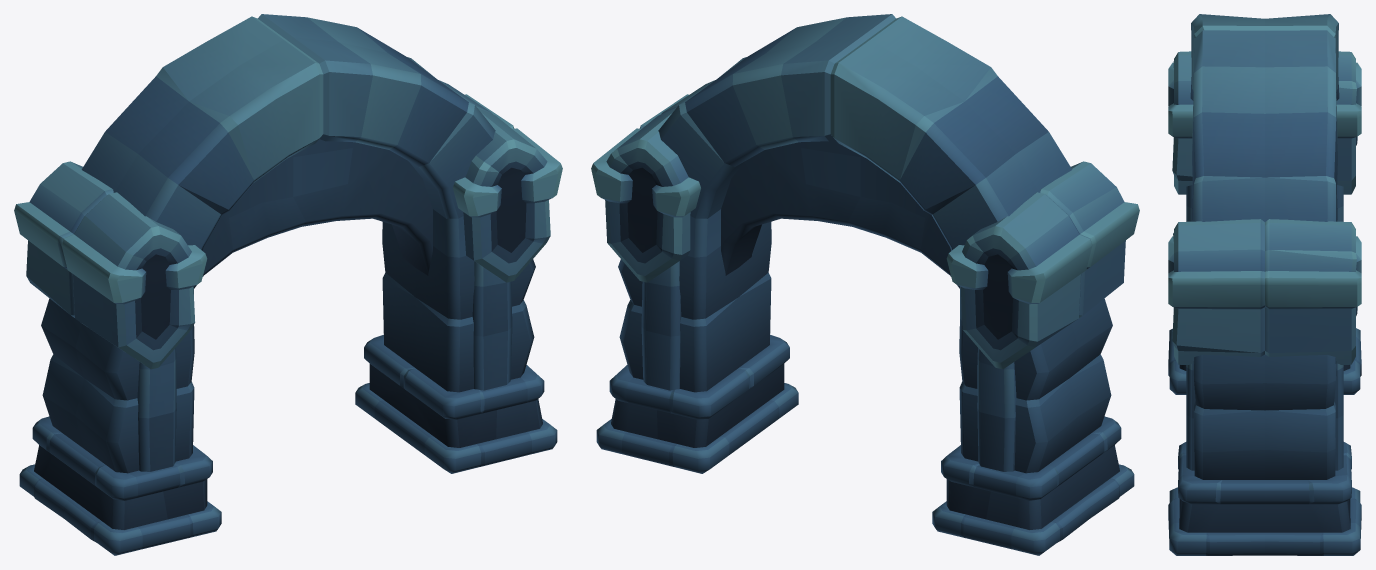
File: doorway_boss.fbx
3 renders of one model, left to right at view 1: azimuth 30°, elevation 25°; view 2: azimuth 150°, elevation 25°; view 3: azimuth 270°, elevation 25°, orthographic.
Visible parts, largest first — view 1: doorway_boss; view 2: doorway_boss; view 3: doorway_boss.
Boxes of the visible parts, x1,y1,x2,y2 form: doorway_boss: (14, 14, 562, 555); doorway_boss: (591, 14, 1139, 555); doorway_boss: (1168, 14, 1361, 555).
Bounding box in the file's own units: 708 × 637 × 264.
